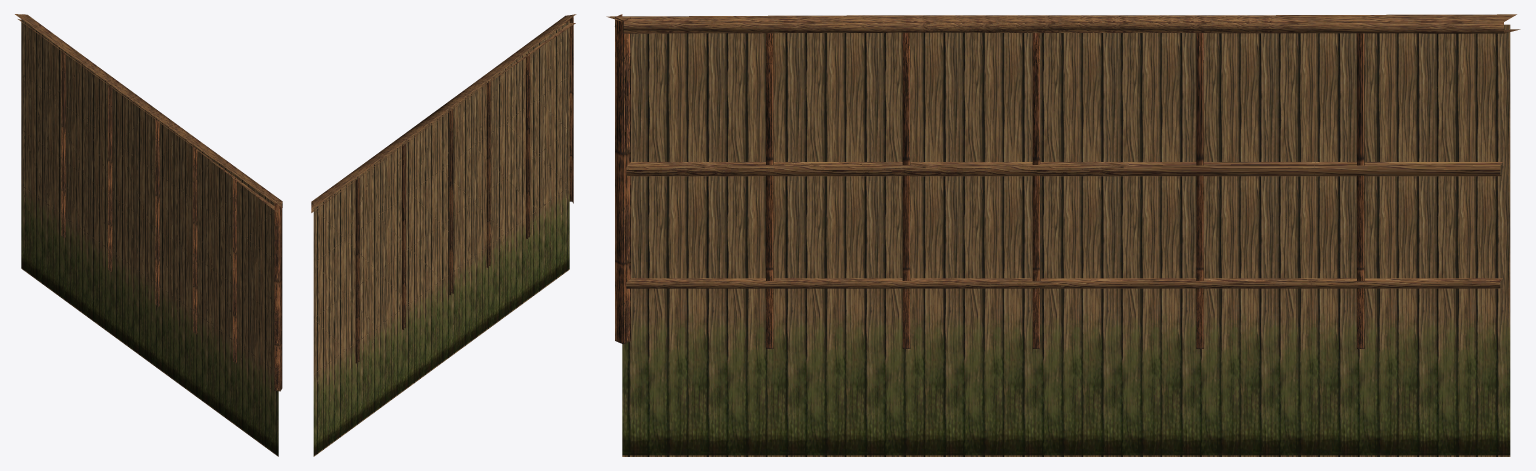
The model's file is LAKETOWN_WAREHOUSE2_PS_WH2_PLATWALL55423__GX.fbx.
3 renders of one model, left to right at view 1: azimuth 30°, elevation 25°; view 2: azimuth 150°, elevation 25°; view 3: azimuth 270°, elevation 25°, orthographic. The views are drawn at different scales.
Parts seen in each view (by area): view 1: LAKETOWN_WAREHOUSE2_PS_WH2_PLATWALL55423__GX; view 2: LAKETOWN_WAREHOUSE2_PS_WH2_PLATWALL55423__GX; view 3: LAKETOWN_WAREHOUSE2_PS_WH2_PLATWALL55423__GX.
Part boxes in pixels (<box>): LAKETOWN_WAREHOUSE2_PS_WH2_PLATWALL55423__GX: <box>15,14,282,456</box>; LAKETOWN_WAREHOUSE2_PS_WH2_PLATWALL55423__GX: <box>311,14,576,456</box>; LAKETOWN_WAREHOUSE2_PS_WH2_PLATWALL55423__GX: <box>606,14,1520,456</box>.
Bounding box in the file's own units: 5821 × 152335 × 287764.
5 materials, 5 textured.
